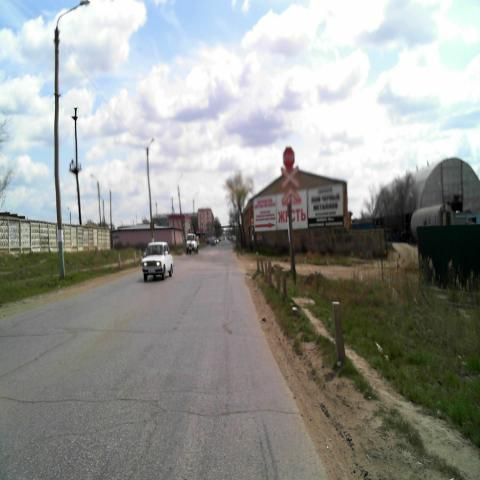2_5: (283, 146, 295, 168)
